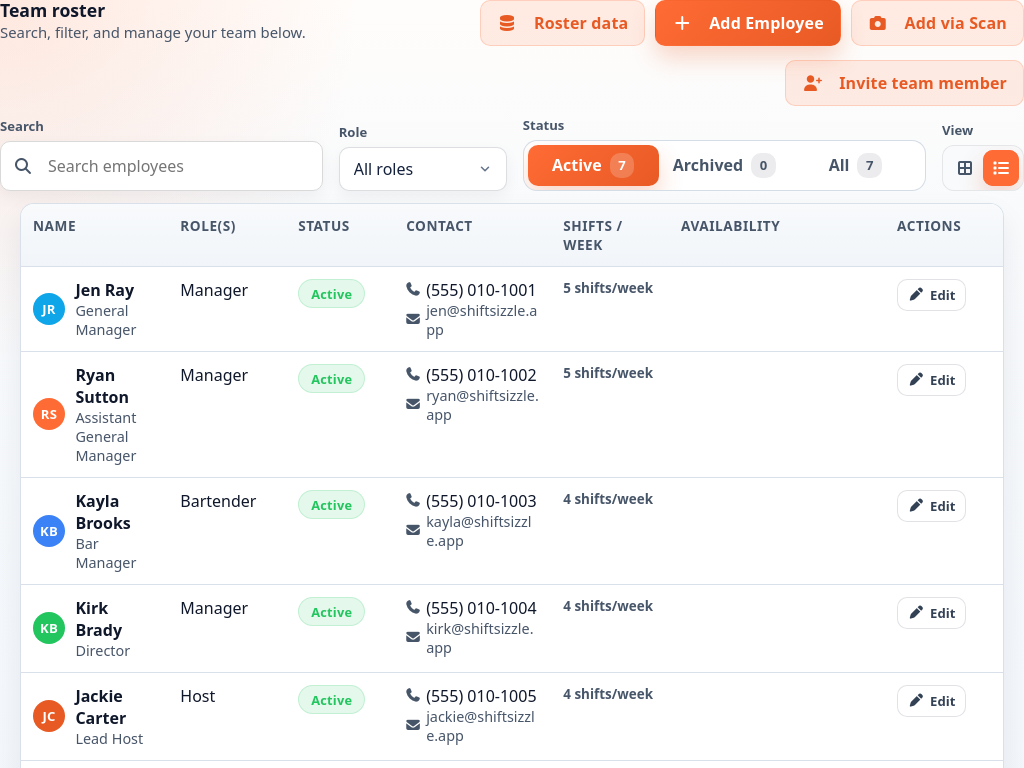
Team view › switches between details and availability tabs in the editor
The width and height of the screenshot is (1024, 768).
Click the button "Add Employee": (748, 23) [655, 0, 841, 46]
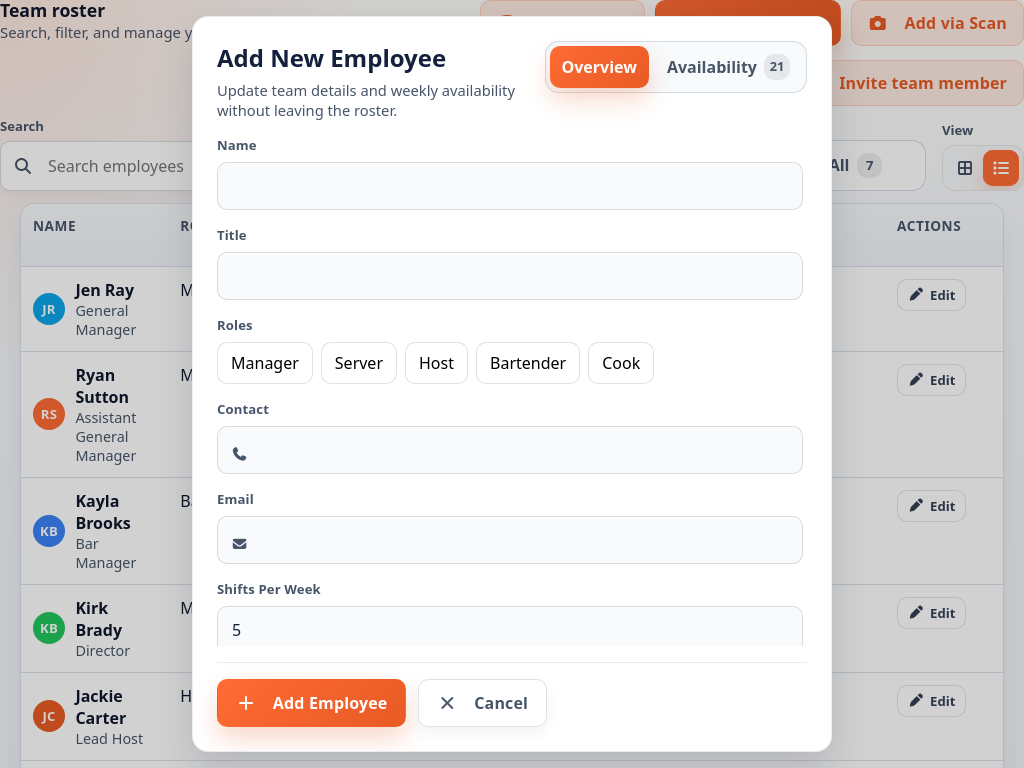
Check: the field labelled "Name" is shown, box [217, 162, 803, 210]
Click the tab "Availability 21": (728, 67) [655, 46, 802, 88]
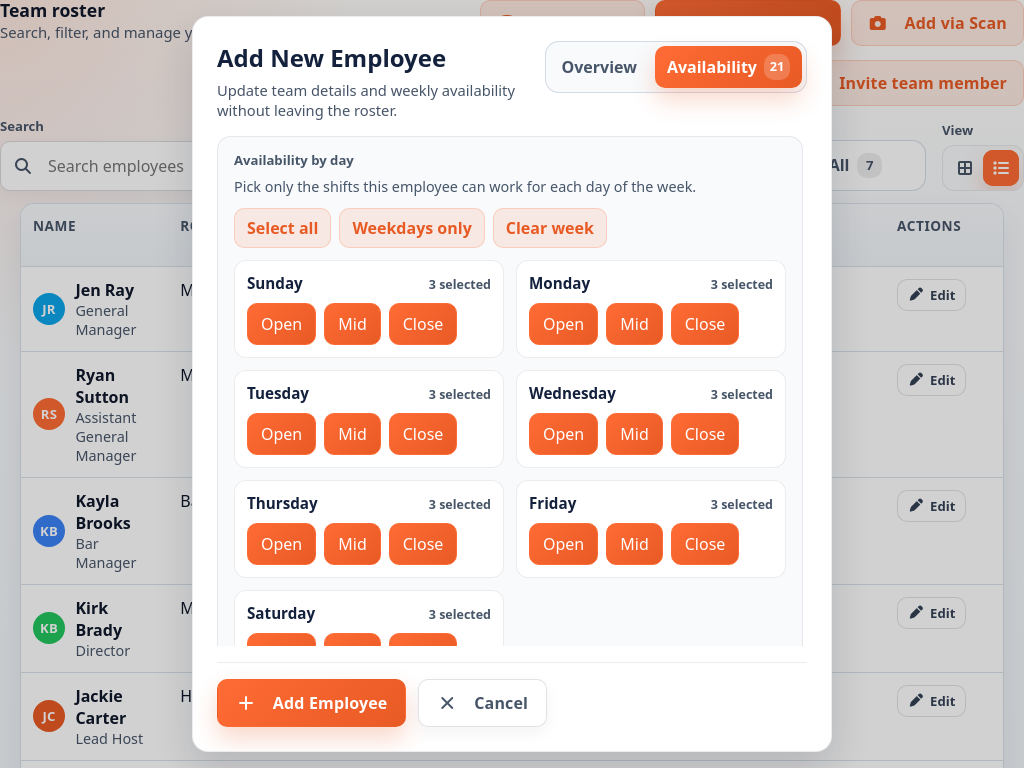
Check: the button with aria-label "Sunday Open" is shown, box [247, 303, 316, 345]
